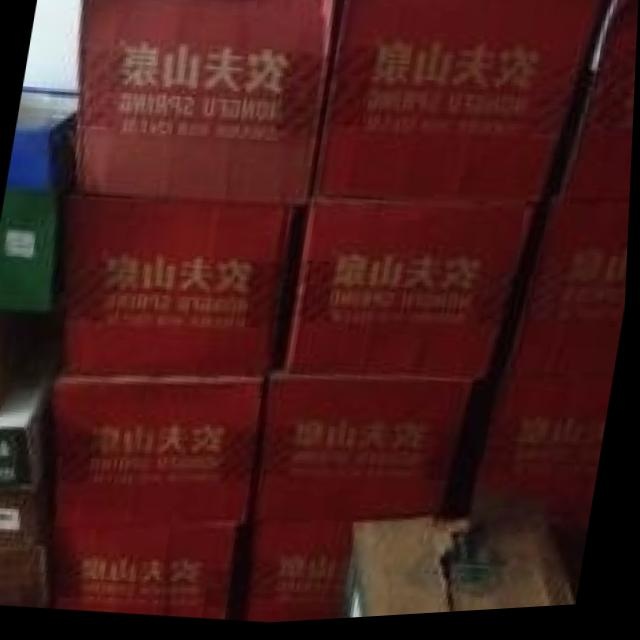box: (319, 0, 612, 205), (82, 0, 337, 205), (285, 200, 542, 384), (62, 193, 295, 377), (58, 375, 269, 533), (257, 376, 476, 527), (464, 381, 616, 541), (506, 203, 632, 390), (57, 524, 248, 623), (552, 5, 639, 207), (244, 523, 359, 626), (0, 188, 71, 312), (7, 87, 80, 191), (0, 365, 52, 491), (0, 488, 47, 546)
